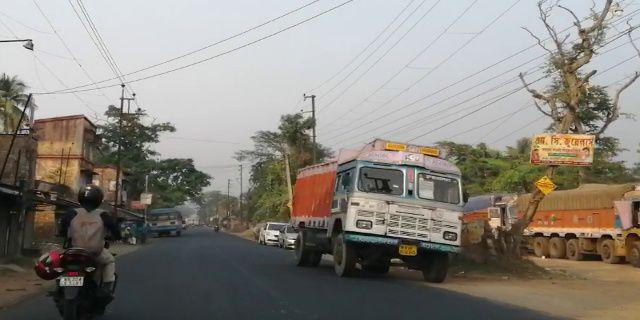Bus: (144, 203, 184, 239)
Car: (257, 220, 291, 247)
Motorbike: (36, 177, 132, 320)
Truck: (284, 137, 470, 286), (506, 183, 640, 273)
